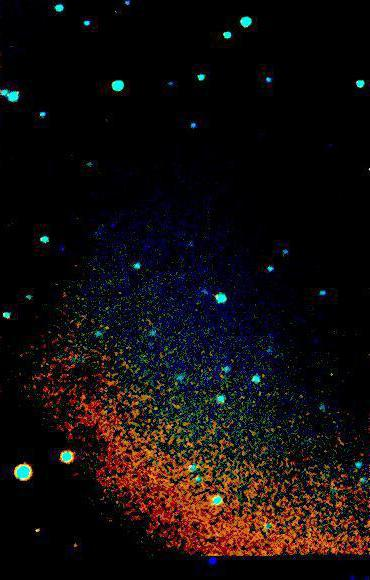star: (61, 530, 91, 560)
